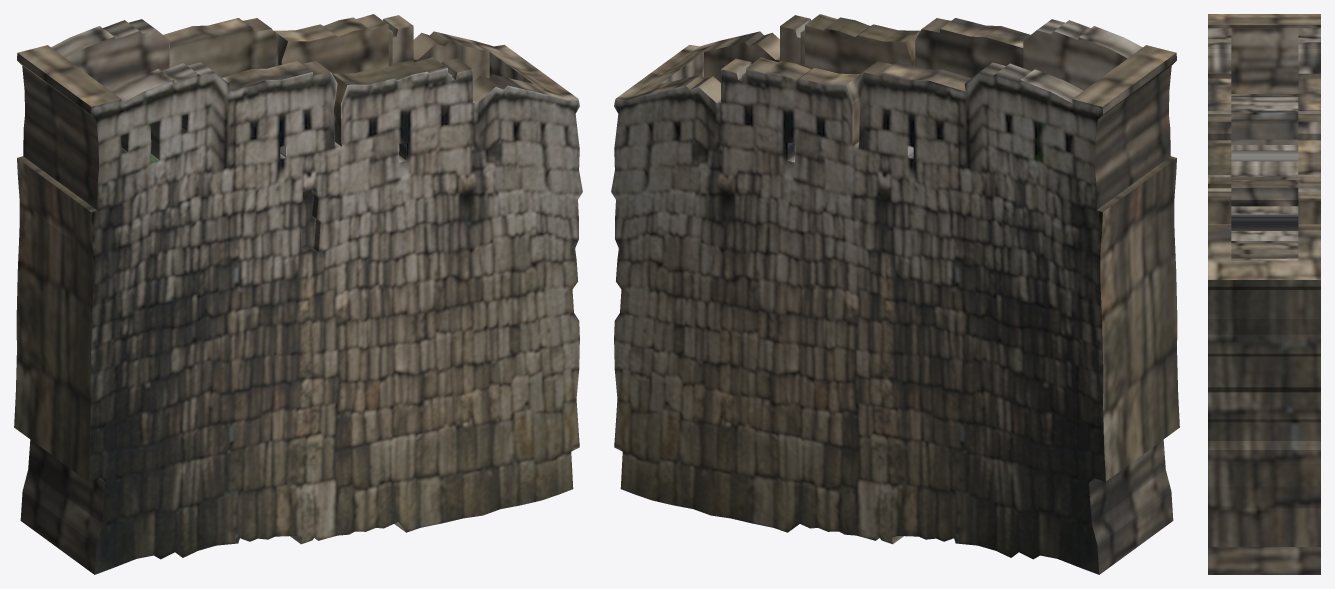
The model's file is towers_love.gltf.
The picture shows the model from 3 angles, left to right: view 1: azimuth 30°, elevation 25°; view 2: azimuth 150°, elevation 25°; view 3: azimuth 270°, elevation 25°; orthographic projection. The views are drawn at different scales.
Parts seen in each view (by area): view 1: StoneWall-4581; view 2: StoneWall-4581; view 3: StoneWall-4581.
Boxes of the visible parts, x1,y1,x2,y2 form: StoneWall-4581: (14,14,582,574); StoneWall-4581: (611,14,1179,574); StoneWall-4581: (1208,14,1320,574).
Size of the model in its own units: 99.15 by 97.86 by 25.69.
1 material, 1 textured.
